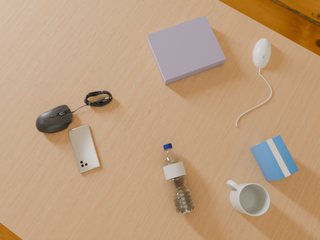book: (147, 15, 226, 85)
bottle: (162, 143, 195, 215)
box: (250, 135, 299, 181)
cup: (226, 180, 270, 216)
mouse: (36, 105, 74, 133), (253, 38, 271, 68)
phone: (68, 124, 100, 173)
